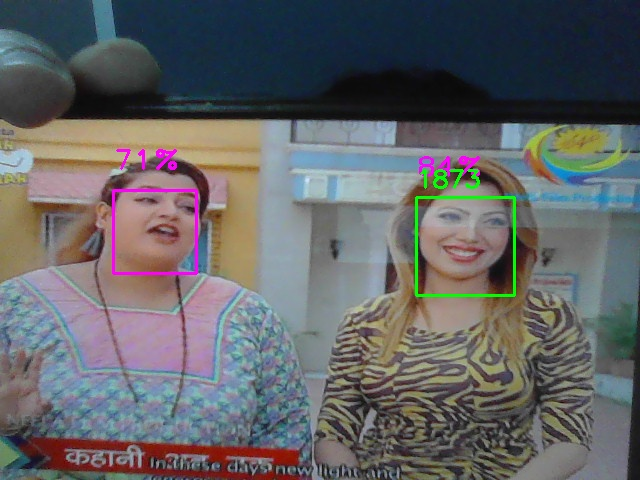fake: (416, 197, 515, 296)
